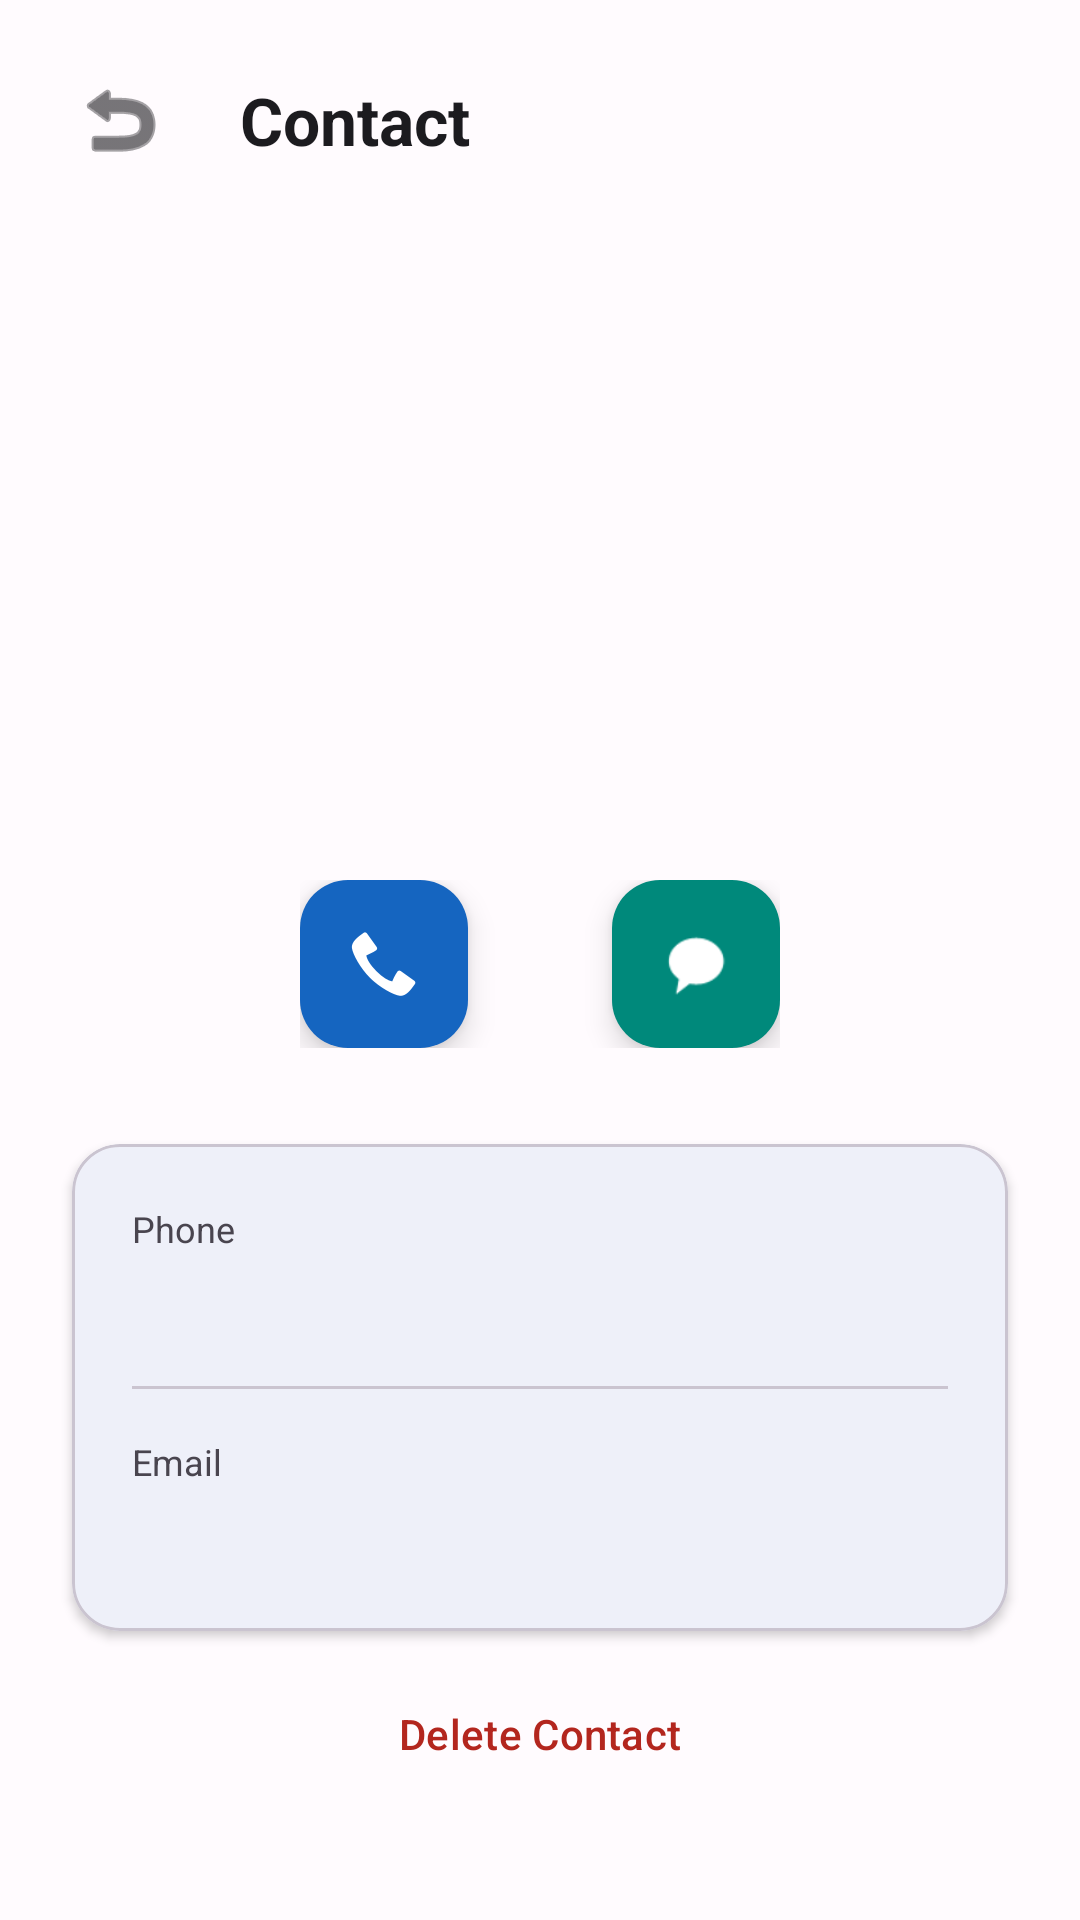

Where to tap for icons on this 1080 × 1920 app screen, as (x,y):
Back: (121,120)
Call: (384,964)
Message: (696,964)
